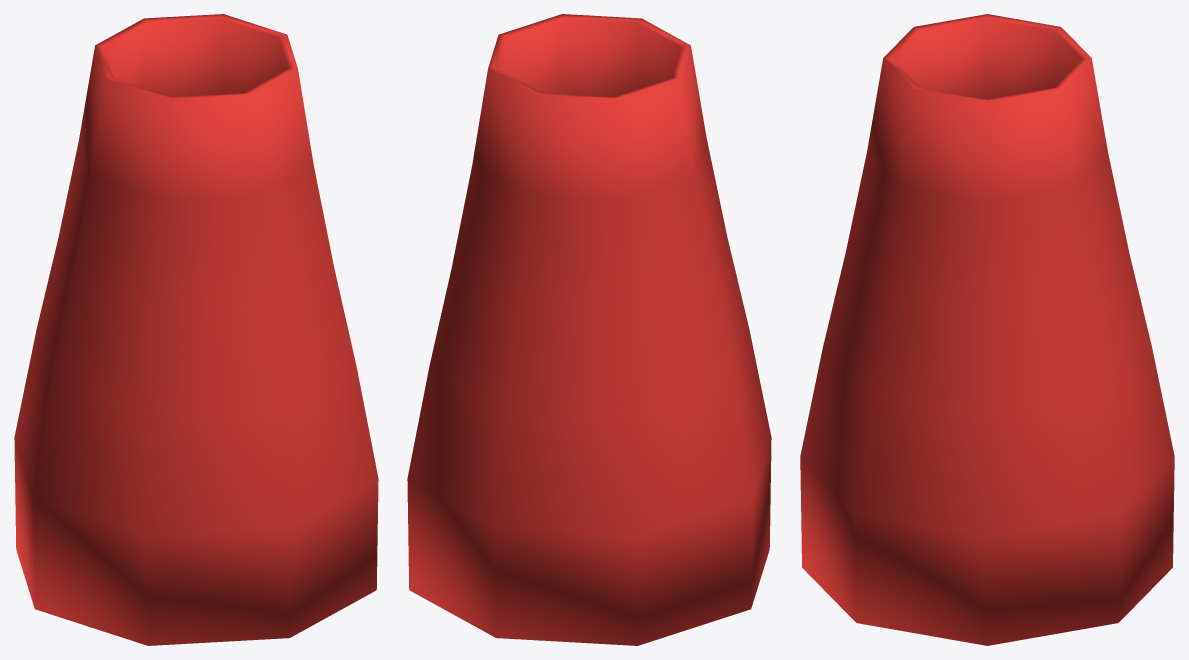
File: Vase1.fbx
3 renders of one model, left to right at view 1: azimuth 30°, elevation 25°; view 2: azimuth 150°, elevation 25°; view 3: azimuth 270°, elevation 25°, orthographic.
Visible parts, largest first — view 1: Cylinder.046; view 2: Cylinder.046; view 3: Cylinder.046.
Boxes of the visible parts, box(x1,y1,x2,y2) form: Cylinder.046: box(14, 14, 378, 645); Cylinder.046: box(407, 14, 771, 645); Cylinder.046: box(800, 14, 1174, 645).
Bounding box in the file's own units: 77.66 × 117 × 77.66.
